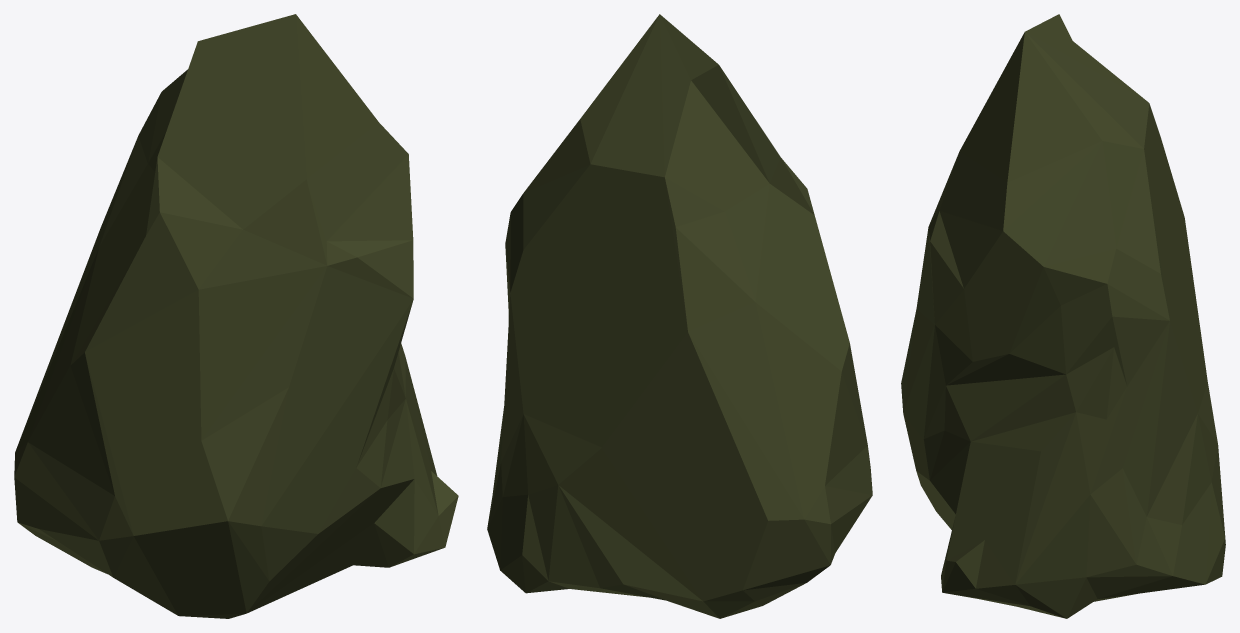
File: SM_small_rock_04.fbx
3 views of the same model, side by side, from view 1: azimuth 30°, elevation 25°; view 2: azimuth 150°, elevation 25°; view 3: azimuth 270°, elevation 25° (orthographic). The views are drawn at different scales.
Parts seen in each view (by area): view 1: small_rock_04; view 2: small_rock_04; view 3: small_rock_04.
Part boxes in pixels (<box>): small_rock_04: <box>14,14,458,618</box>; small_rock_04: <box>487,14,872,618</box>; small_rock_04: <box>901,14,1225,618</box>.
Bounding box in the file's own units: 12.07 × 17.23 × 9.48.
